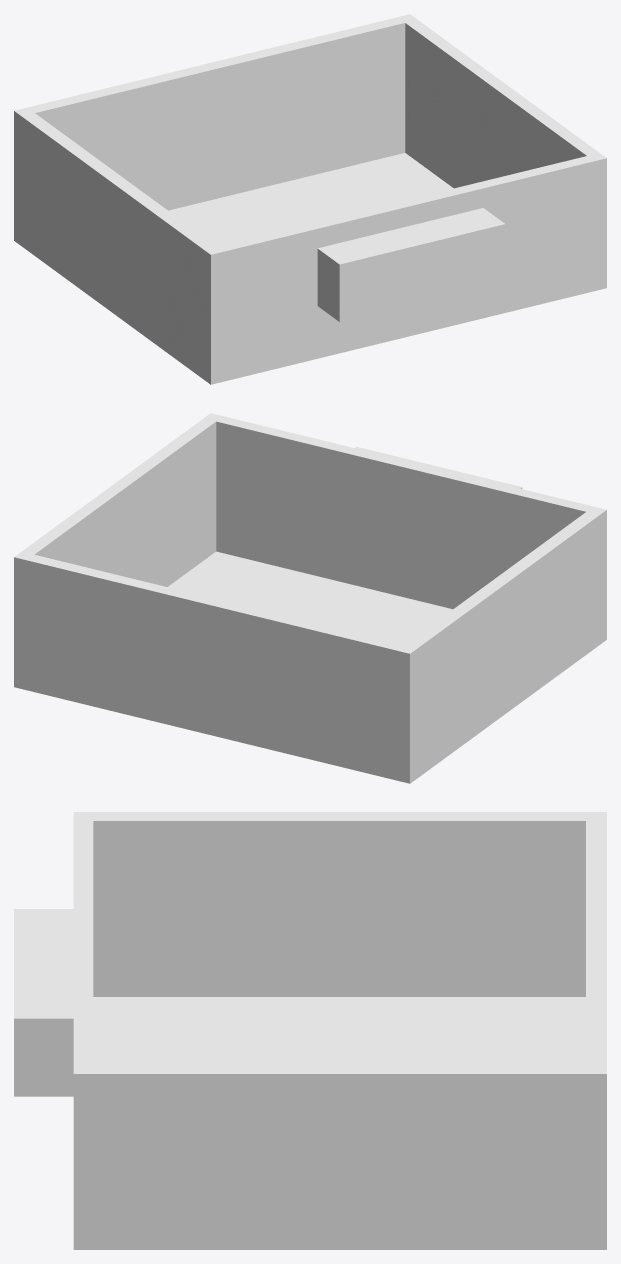
The model's file is szufladencja.fbx.
3 renders of one model, top to bottom at view 1: azimuth 30°, elevation 25°; view 2: azimuth 150°, elevation 25°; view 3: azimuth 270°, elevation 25°, orthographic. The views are drawn at different scales.
Parts seen in each view (by area): view 1: Cube.003; view 2: Cube.003; view 3: Cube.003.
Part boxes in pixels (<box>): Cube.003: <box>14,14,606,384</box>; Cube.003: <box>14,413,606,783</box>; Cube.003: <box>14,812,606,1249</box>.
Size of the model in its own units: 92.94 by 29.14 by 88.97.
Materials: 1 (1 with a texture image).
